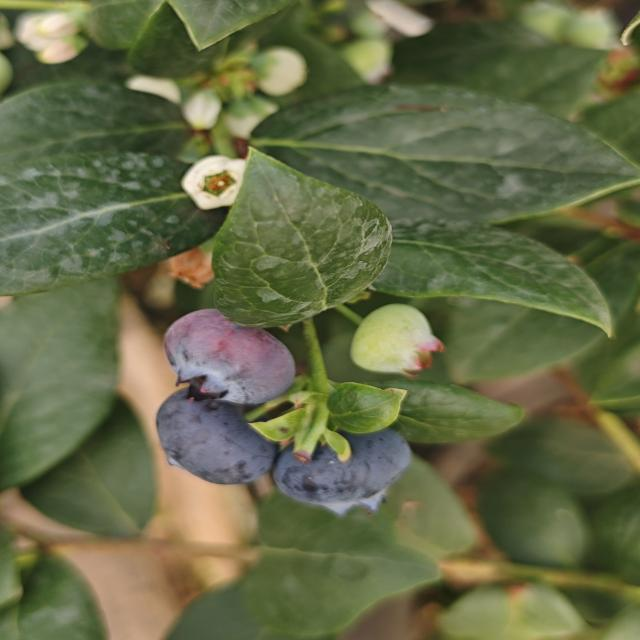ripe: (153, 306, 298, 487), (270, 424, 414, 516), (153, 386, 278, 487)
